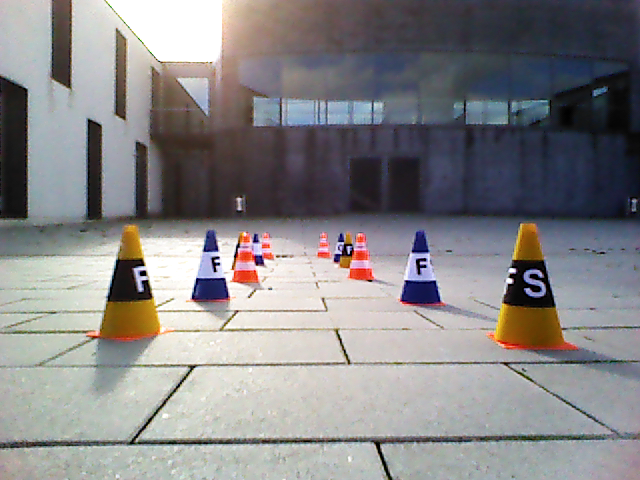bluecone: (401, 230, 441, 304), (195, 228, 227, 301), (254, 234, 263, 262), (334, 233, 343, 261)
orangeconesmall: (234, 233, 260, 286), (348, 232, 375, 281)
yellowcone: (496, 222, 567, 345), (98, 225, 164, 336), (340, 232, 353, 267)
